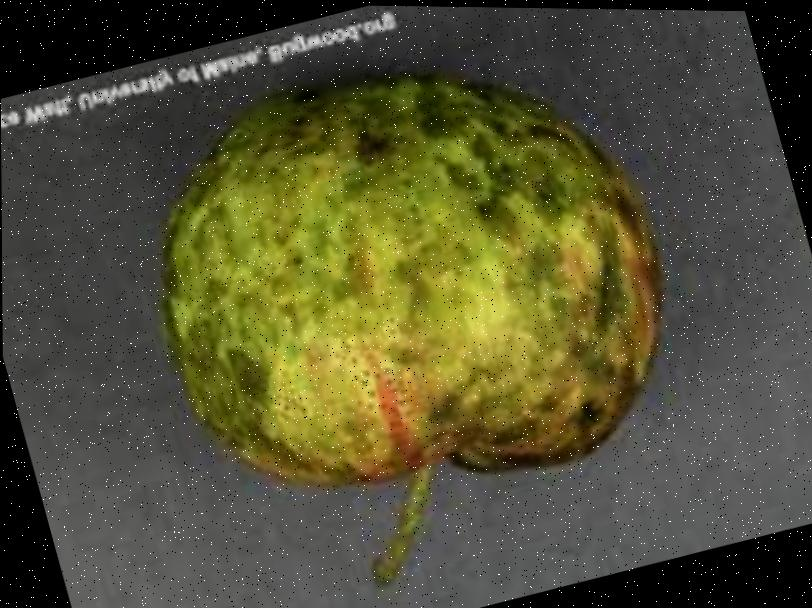BLOTCH: (105, 9, 735, 587)
